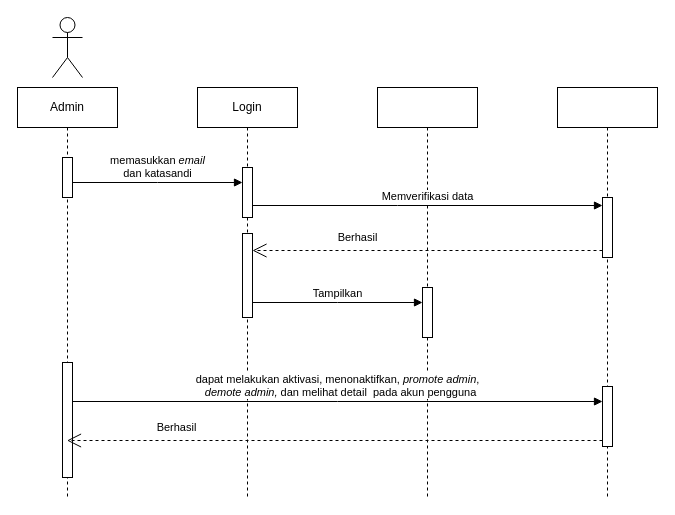
The diagram is 675 pixels wide and 515 high, and some of its shapes have lost their labels. The centre of each missing label's shape, as x and y in pixels:
DB_Users: (607,292)
Halaman Dashboard: (427,292)
